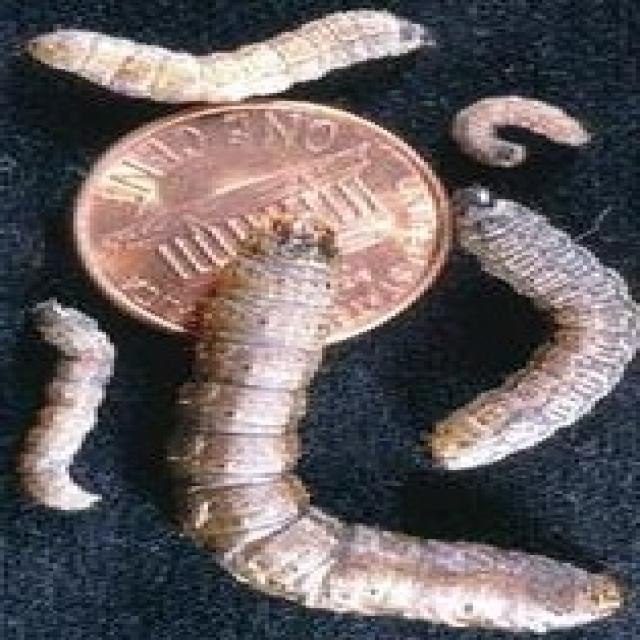black cutworm: (180, 224, 621, 633), (417, 194, 637, 483), (18, 10, 450, 119), (11, 287, 138, 528), (450, 89, 597, 190)
